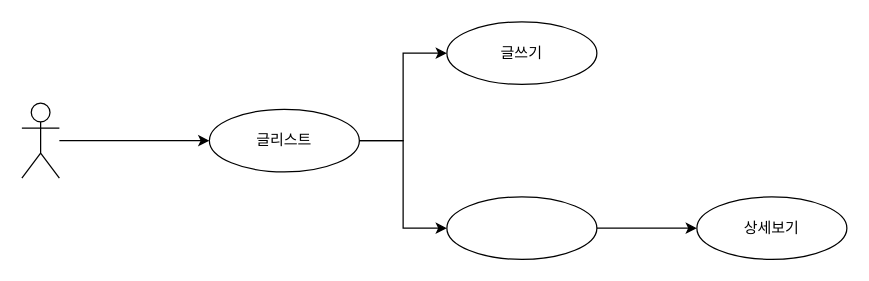
Image size: 869x281. Some labels were removed from this diagram. The box of each missing label's shape, as (x1, y1, x2, y2) in pixels:
Actor: (21, 102, 59, 178)
글보기: (446, 196, 597, 259)
